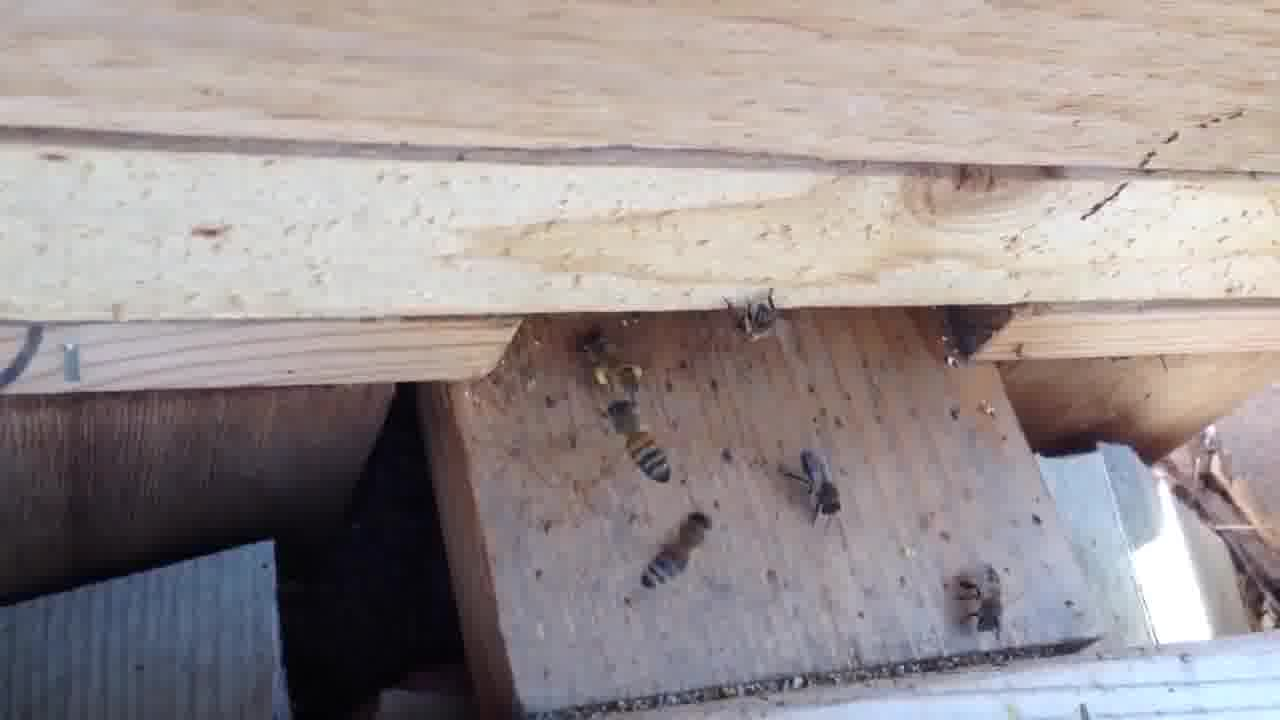pollen: (579, 327, 650, 399)
